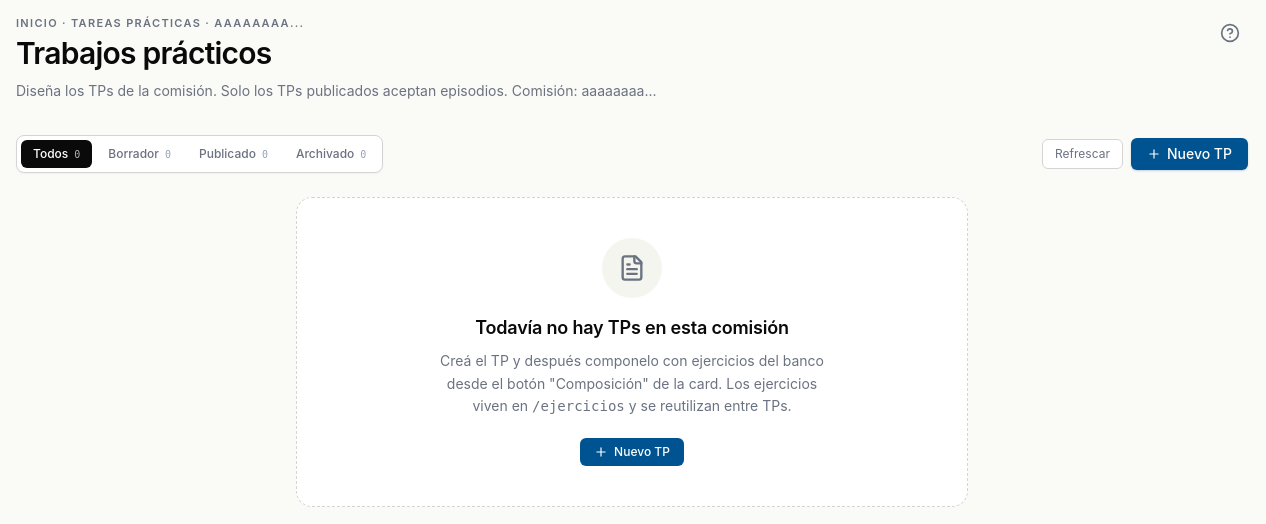
Test case: TareasPracticasView — hallazgo #12 empty state sensible al filtro › filtro Archivado: el mensaje cambia con el filtro (no es texto fijo)
This screenshot has width=1266, height=524.
Expected: the heading "Todavía no hay TPs en esta comisión" is shown, x1=475 y1=317 x2=789 y2=338
Click the tab "Archivado0": (331, 154) x1=284 y1=140 x2=378 y2=168
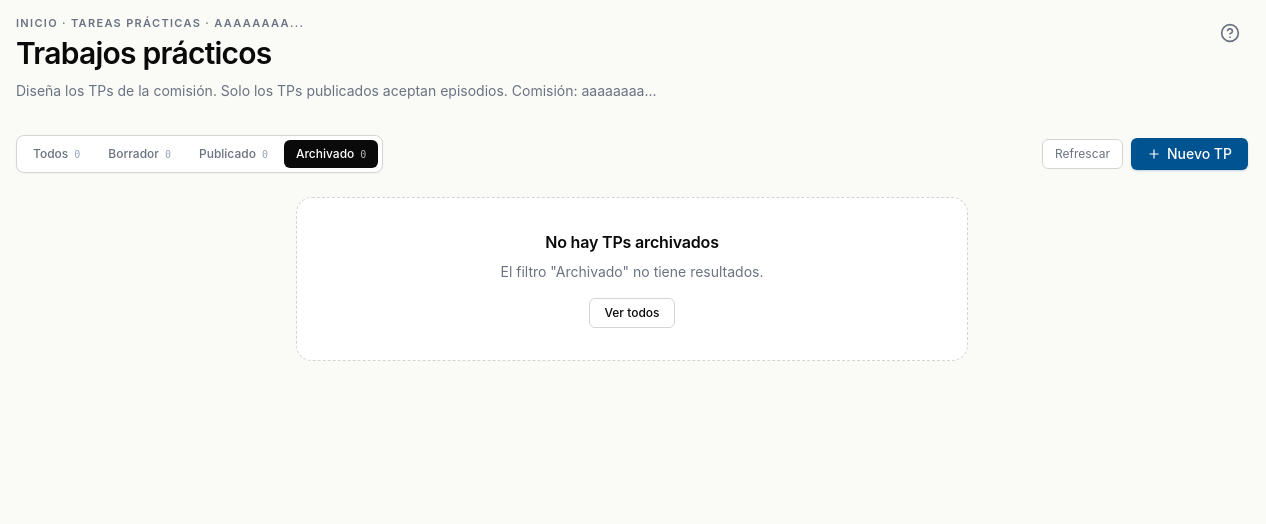
Expected: the element with test id "tp-empty-filtrado" shows "No hay TPs archivados", x1=545 y1=232 x2=719 y2=252
